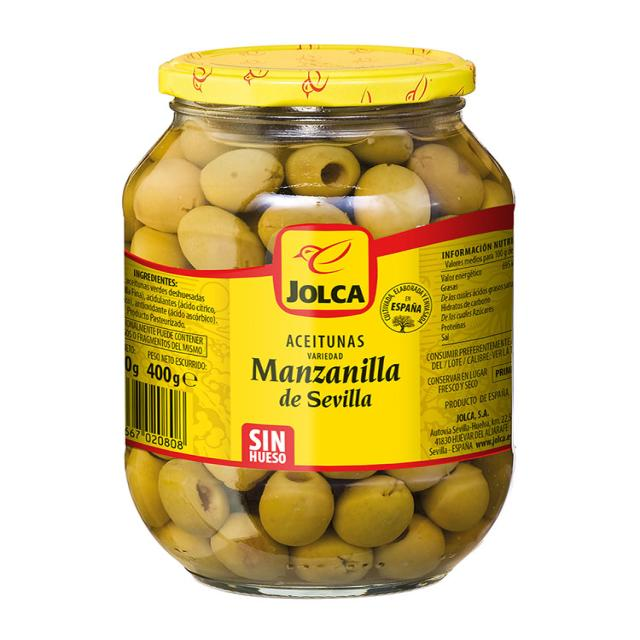Codigo_barras: (125, 377, 200, 459)
